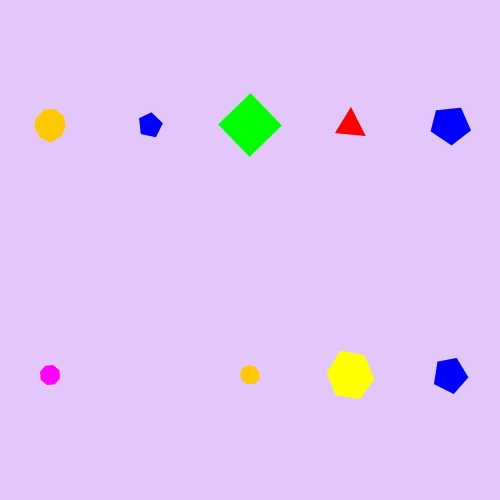hexagon: (321, 351, 380, 400)
nonagon: (30, 106, 71, 145), (236, 361, 265, 389)
octagon: (35, 360, 65, 390)
pentagon: (427, 102, 473, 148), (429, 354, 471, 396), (134, 109, 166, 141)
quadrilateral: (216, 91, 285, 160)
triangle: (332, 107, 368, 144)
